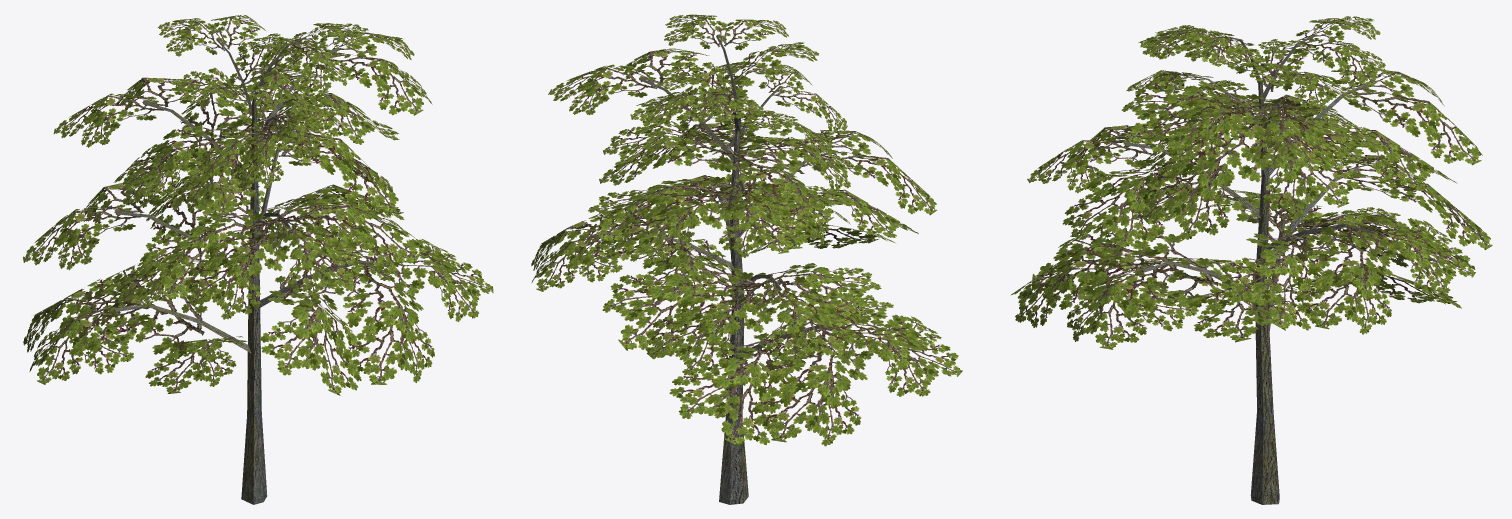
The model's file is maple.glb.
The picture shows the model from 3 angles, left to right: view 1: azimuth 30°, elevation 25°; view 2: azimuth 150°, elevation 25°; view 3: azimuth 270°, elevation 25°; orthographic projection. The views are drawn at different scales.
Visible parts, largest first — view 1: maple_a; view 2: maple_a; view 3: maple_a.
Part boxes in pixels (x1,y1,x2,y2): maple_a: (23, 15, 493, 504); maple_a: (531, 14, 962, 504); maple_a: (1011, 16, 1492, 504).
Size of the model in its own units: 15.07 by 16.81 by 15.41.
1 material, 1 textured.
